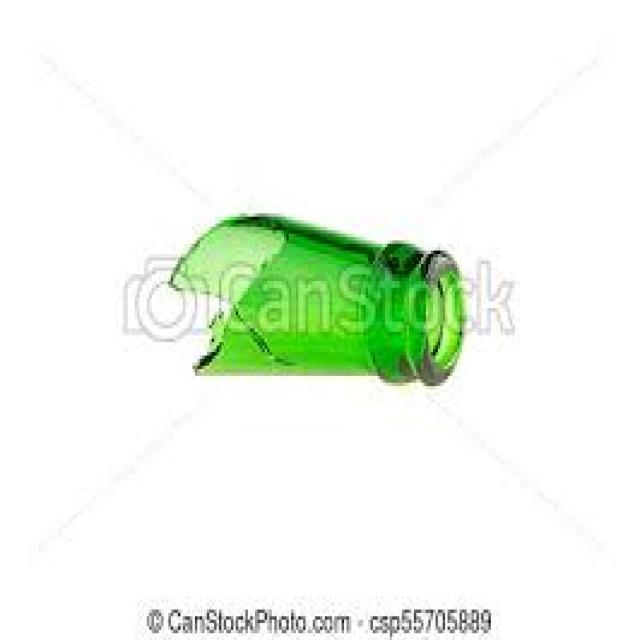glass: (166, 210, 462, 386)
